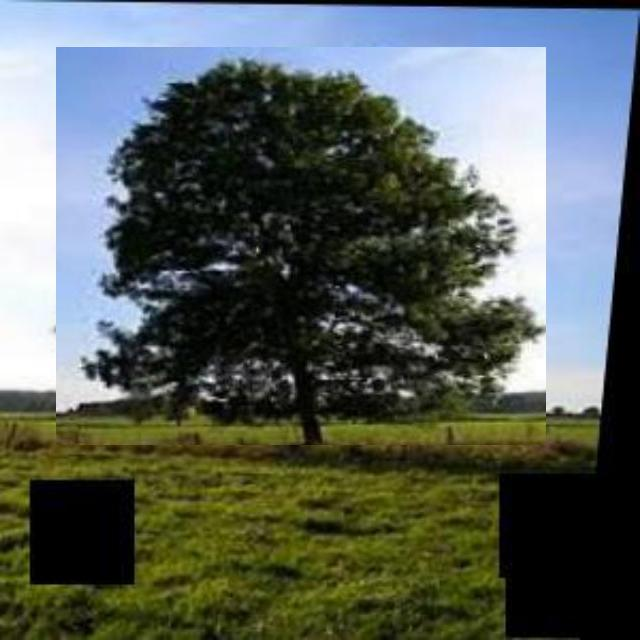tree: (56, 47, 546, 445)
